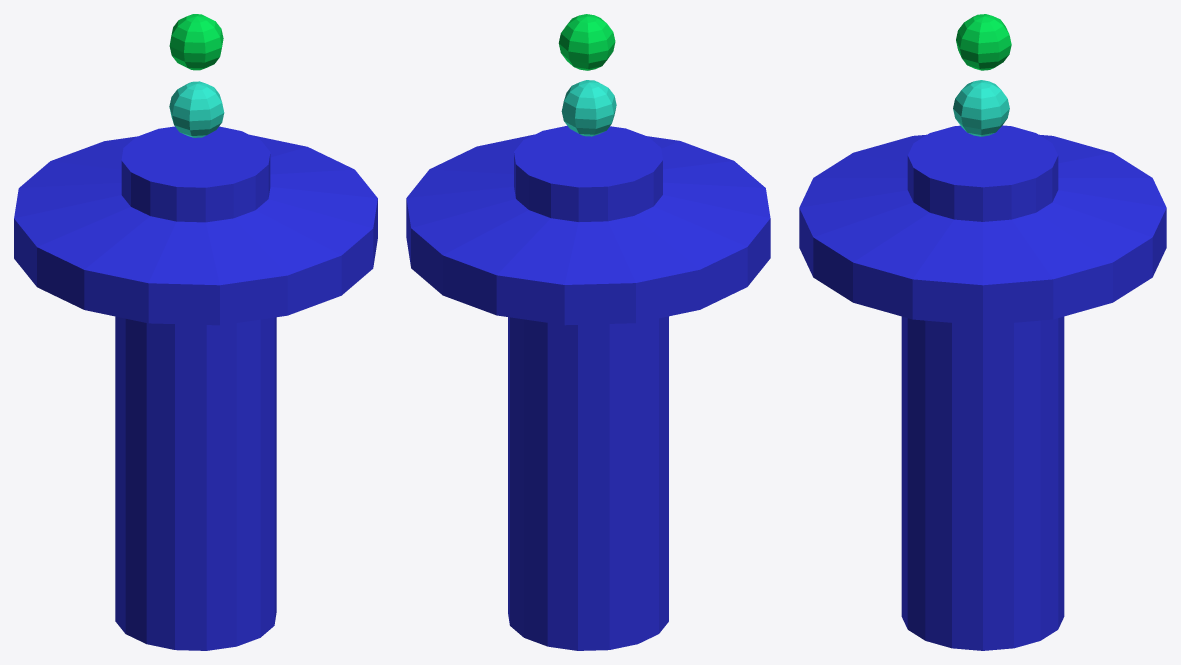
The model's file is circle turret.fbx.
3 renders of one model, left to right at view 1: azimuth 30°, elevation 25°; view 2: azimuth 150°, elevation 25°; view 3: azimuth 270°, elevation 25°, orthographic.
Visible parts, largest first — view 1: base, sphere 1, sphere 2; view 2: base, sphere 2, sphere 1; view 3: base, sphere 1, sphere 2.
Boxes of the visible parts, bbox=[...] form: base: bbox=[14, 126, 377, 650]; sphere 1: bbox=[169, 81, 224, 137]; sphere 2: bbox=[169, 14, 223, 70]; base: bbox=[406, 125, 770, 650]; sphere 2: bbox=[558, 14, 615, 70]; sphere 1: bbox=[561, 80, 616, 136]; base: bbox=[799, 125, 1166, 650]; sphere 1: bbox=[953, 80, 1009, 136]; sphere 2: bbox=[956, 14, 1011, 70].
Bounding box in the file's own units: 451 × 814 × 451.
